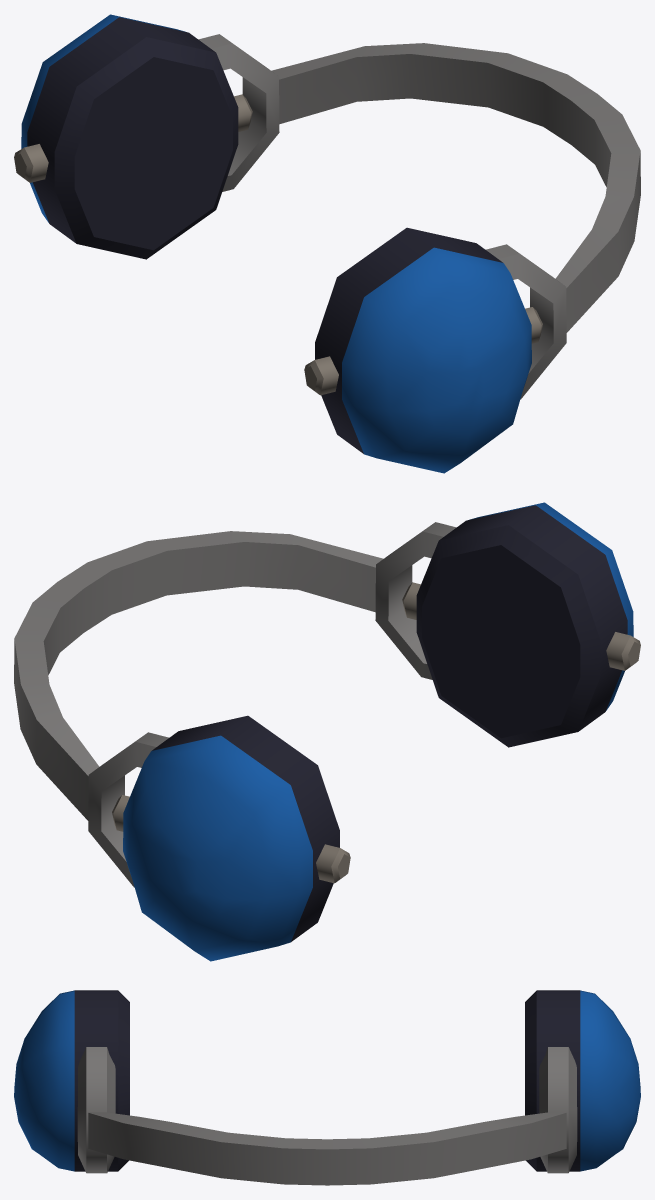
Rendered from EarMuffs_Helmet_3.fbx.
The picture shows the model from 3 angles, top to bottom: view 1: azimuth 30°, elevation 25°; view 2: azimuth 150°, elevation 25°; view 3: azimuth 270°, elevation 25°; orthographic projection. The views are drawn at different scales.
Parts seen in each view (by area): view 1: EarMuffs_Helmet_3; view 2: EarMuffs_Helmet_3; view 3: EarMuffs_Helmet_3.
Part boxes in pixels (x1,y1,x2,y2): EarMuffs_Helmet_3: (14, 14, 640, 473); EarMuffs_Helmet_3: (14, 502, 640, 961); EarMuffs_Helmet_3: (14, 990, 640, 1185).
Bounding box in the file's own units: 44.17 × 21.72 × 69.05.
